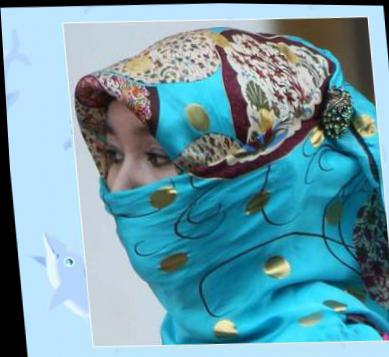WRONG: (88, 101, 224, 291)
